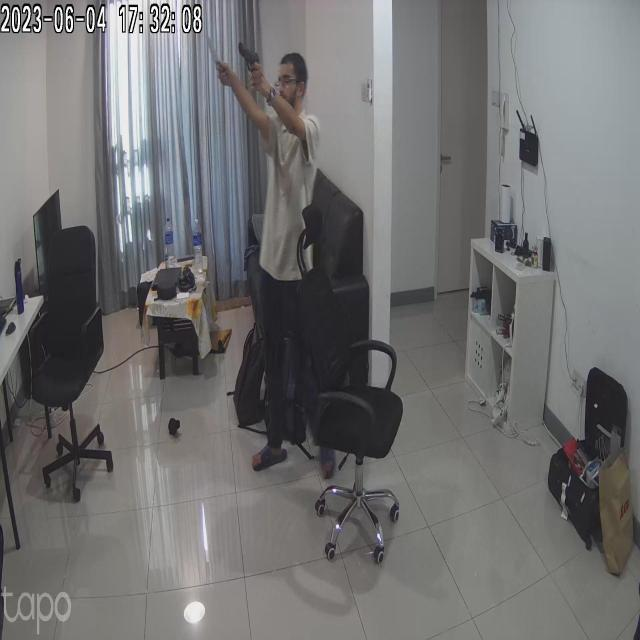Gun: (234, 34, 278, 89)
Knife: (195, 25, 228, 85)
